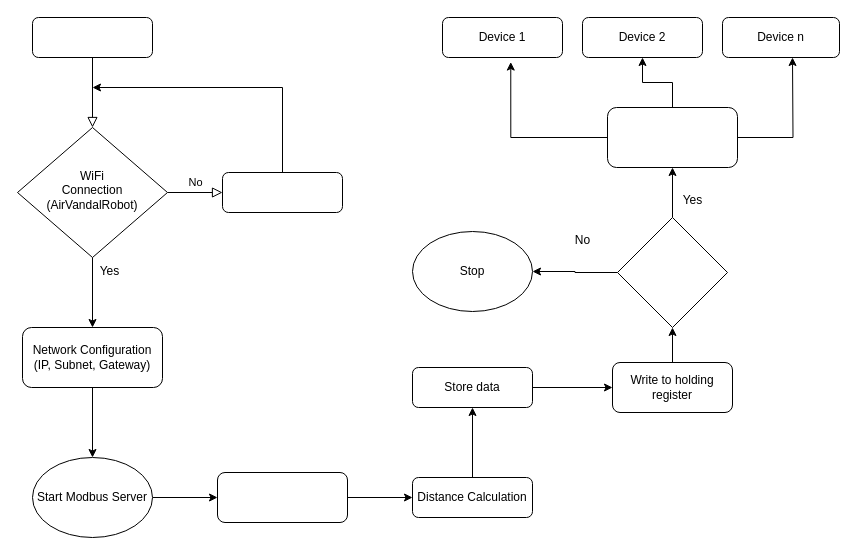
This 857x555 diagram has some shape labels left out. The centre of each missing label's shape, as x and y in pixels:
"Broadcast to all devices within same network" goes at pixel 672 137.
"Device in same network" goes at pixel 672 272.
"Error in Connection (Retry)" goes at pixel 282 192.
"Nano ESP32" goes at pixel 92 37.
"Ultrasonic Sensor (Distance measured)" goes at pixel 282 497.
